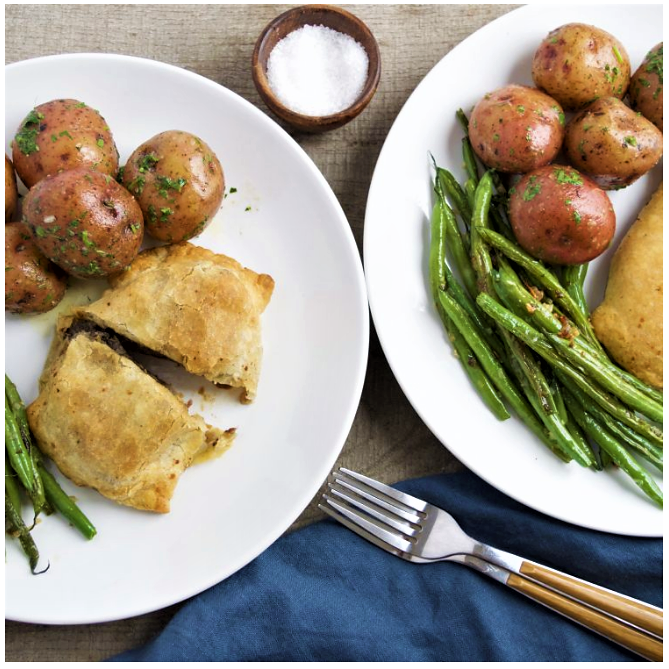boiled peas: (454, 258, 612, 484)
boiled potatoes: (22, 175, 141, 265), (131, 128, 221, 246), (513, 172, 617, 255), (470, 88, 565, 170), (16, 101, 117, 177), (541, 24, 632, 107), (573, 90, 654, 178)
